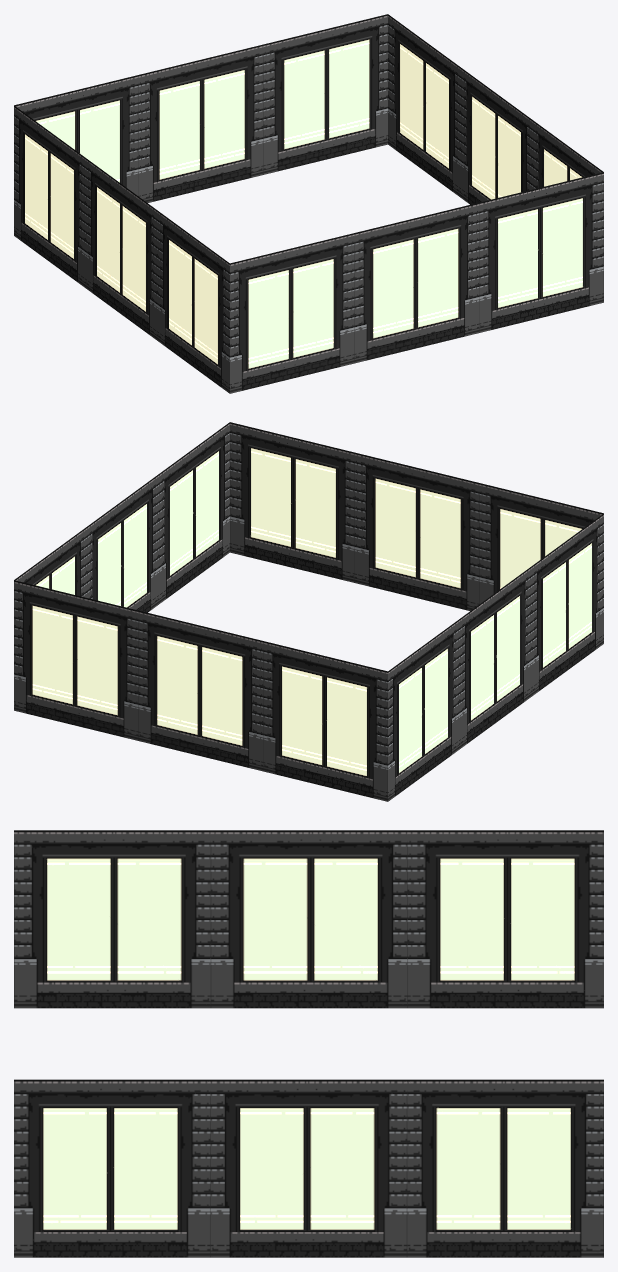
Rendered from mid_2.FBX.
3 renders of one model, top to bottom at view 1: azimuth 30°, elevation 25°; view 2: azimuth 150°, elevation 25°; view 3: azimuth 270°, elevation 25°, orthographic. The views are drawn at different scales.
Visible parts, largest first — view 1: gry_mid; view 2: gry_mid; view 3: gry_mid.
Boxes of the visible parts, x1,y1,x2,y2 form: gry_mid: [14, 14, 603, 393]; gry_mid: [14, 422, 603, 801]; gry_mid: [14, 830, 603, 1257].
Size of the model in its own units: 147 by 49.08 by 147.
Materials: 1 (1 with a texture image).
